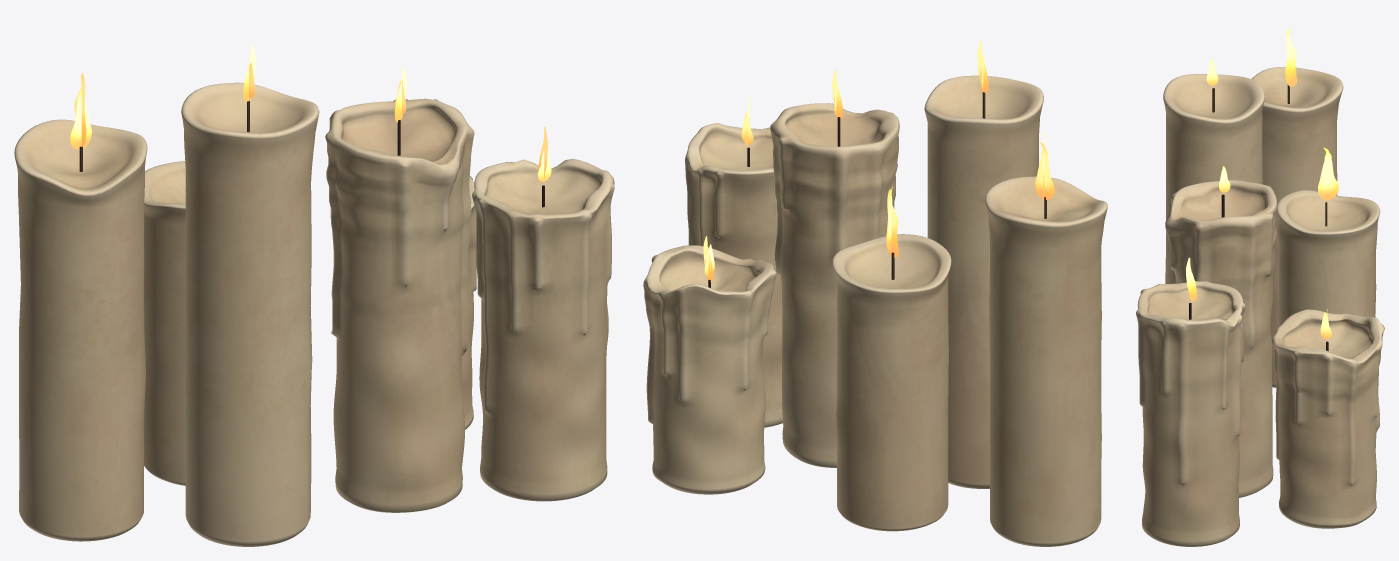
3 views of the same model, side by side, from view 1: azimuth 30°, elevation 25°; view 2: azimuth 150°, elevation 25°; view 3: azimuth 270°, elevation 25° (orthographic). The views are drawn at different scales.
Parts seen in each view (by area): view 1: Object_3, Object_4, Object_2, Object_5; view 2: Object_3, Object_4, Object_5, Object_2; view 3: Object_4, Object_3, Object_5, Object_2.
Part boxes in pixels (x1,y1,x2,y2): Object_3: (14,82,319,546); Object_4: (325,98,614,512); Object_2: (70,44,551,182); Object_5: (397,120,544,429); Object_3: (832,75,1107,546); Object_4: (685,103,899,467); Object_5: (643,117,840,494); Object_2: (703,41,1054,281); Object_4: (1136,180,1277,546); Object_3: (1163,67,1380,387); Object_5: (1189,194,1384,528); Object_2: (1186,28,1338,339).
Bounding box in the file's own units: 0.2665 × 0.25 × 0.1433.
3 materials, 3 textured.
